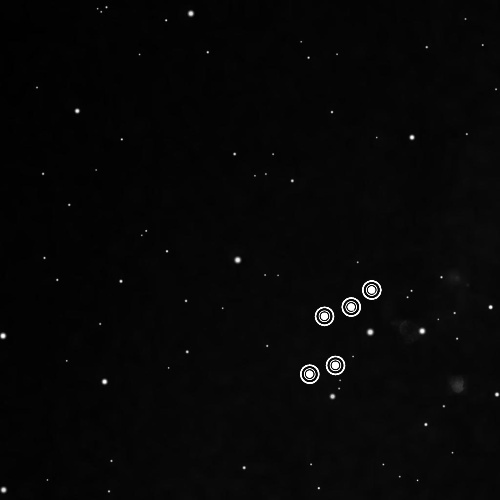lyra: (289, 269, 385, 392)
